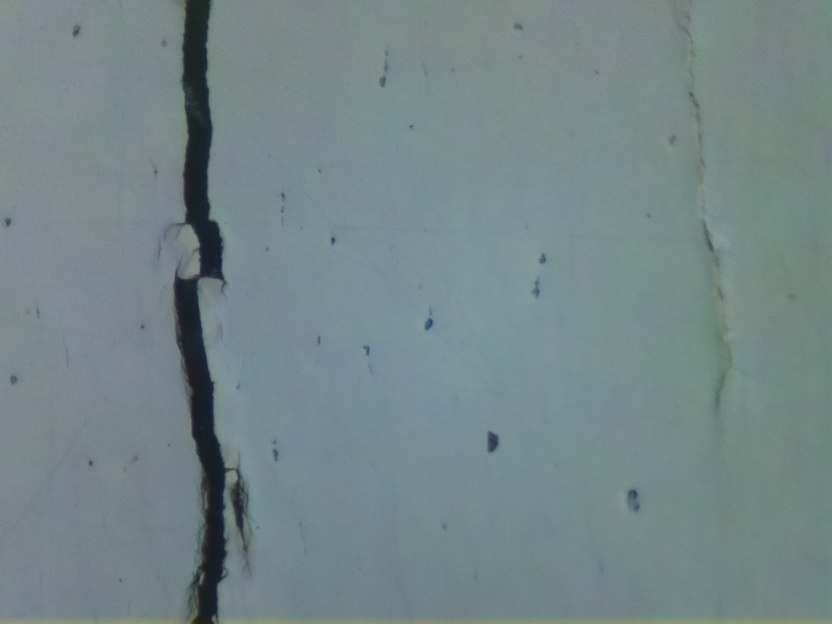crack: (166, 1, 231, 624), (230, 464, 250, 553)
